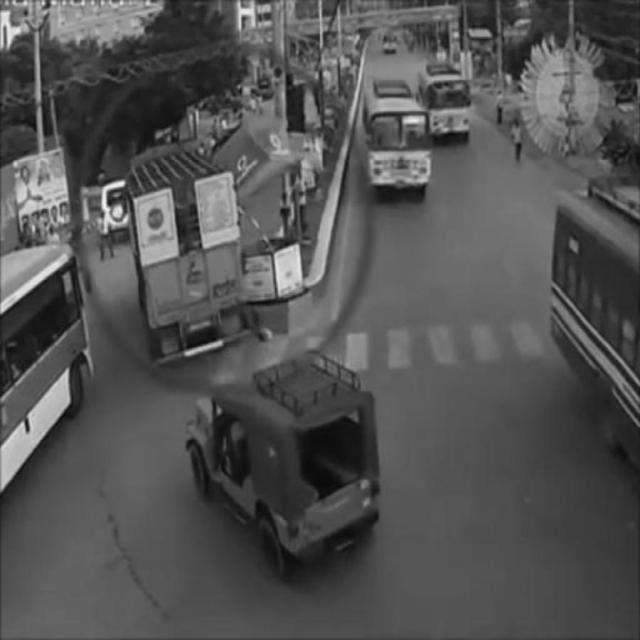person: (510, 119, 525, 166)
vehicle: (190, 359, 386, 571), (131, 192, 249, 342), (363, 85, 431, 195), (423, 67, 474, 145)
